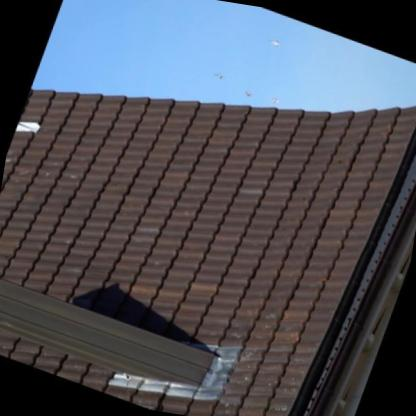bird: (210, 68, 228, 81), (266, 36, 283, 48), (267, 94, 282, 104), (244, 87, 256, 98)
